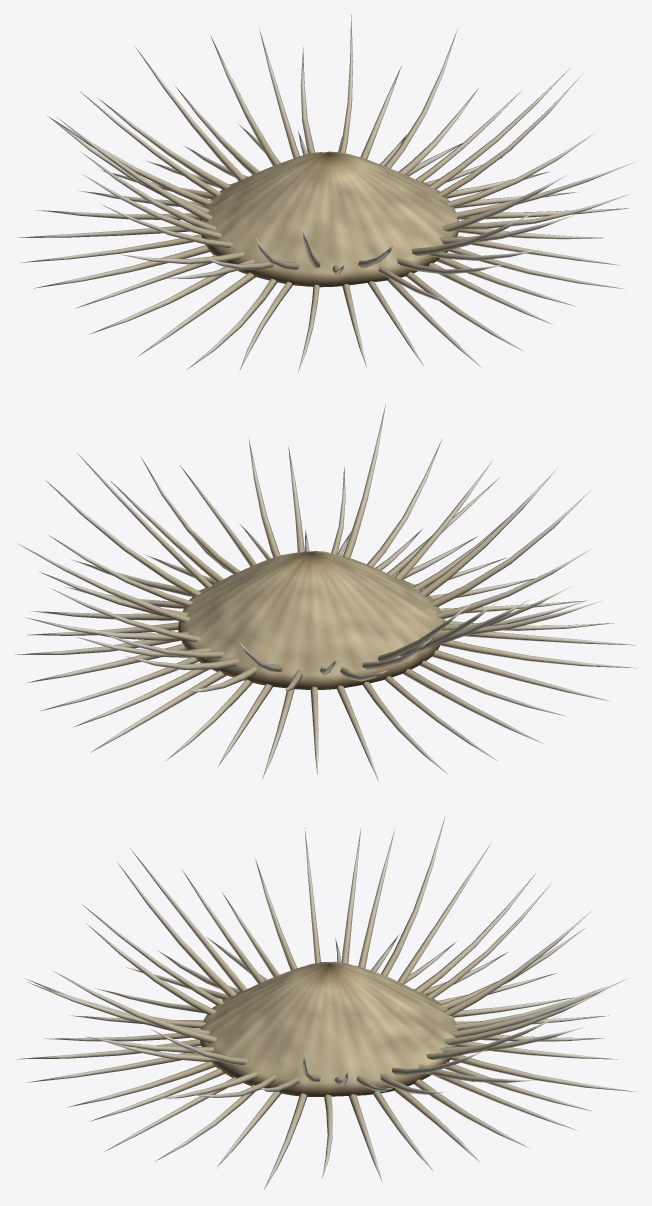
Rendered from ChoiaCarteri.fbx.
3 views of the same model, one above another, from view 1: azimuth 30°, elevation 25°; view 2: azimuth 150°, elevation 25°; view 3: azimuth 270°, elevation 25° (orthographic). The views are drawn at different scales.
Visible parts, largest first — view 1: ChoiaCarteri; view 2: ChoiaCarteri; view 3: ChoiaCarteri.
Part boxes in pixels (left/top/right/bottom): ChoiaCarteri: left=17, top=14, right=636, bottom=371; ChoiaCarteri: left=14, top=403, right=636, bottom=781; ChoiaCarteri: left=15, top=815, right=635, bottom=1190.
Bounding box in the file's own units: 2.05 × 0.5316 × 2.07.
